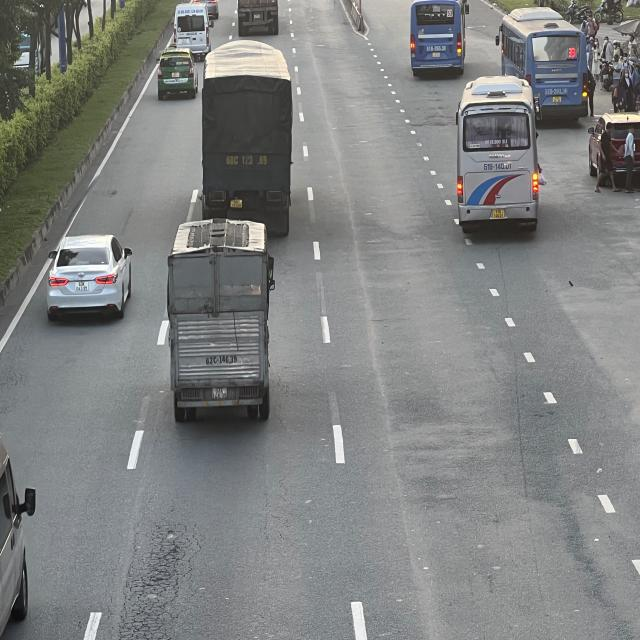car: (47, 235, 133, 322), (157, 48, 198, 100)
coach: (457, 75, 540, 232), (497, 10, 588, 120), (409, 0, 468, 74)
truck: (171, 216, 278, 422), (202, 42, 300, 242)
van: (171, 4, 212, 60)
